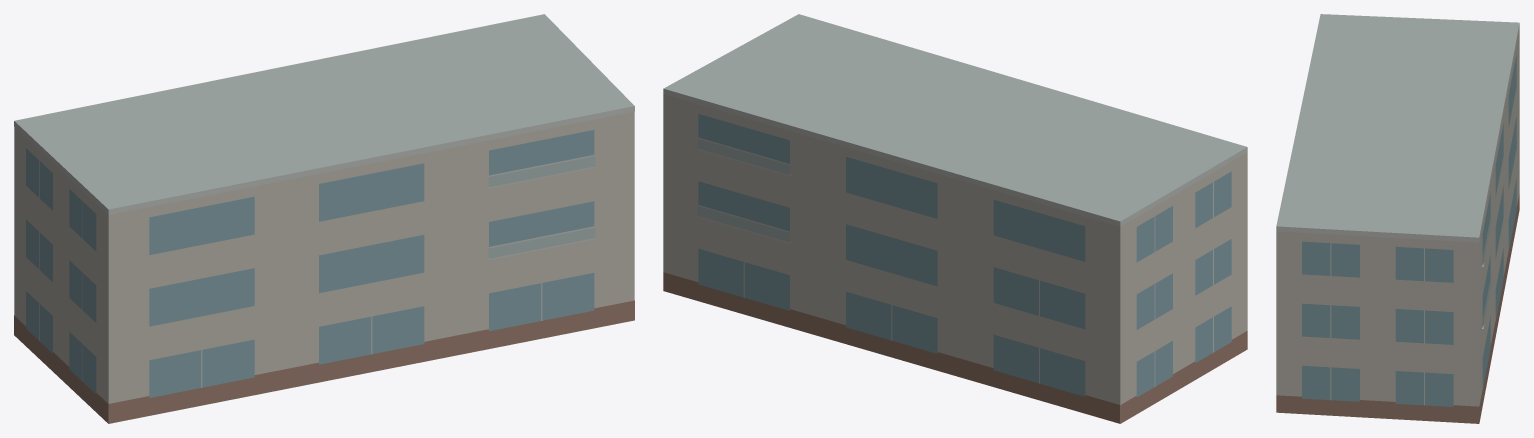
The model's file is survey-upis-32603204.glb.
3 views of the same model, side by side, from view 1: azimuth 30°, elevation 25°; view 2: azimuth 150°, elevation 25°; view 3: azimuth 270°, elevation 25° (orthographic). The views are drawn at different scales.
Parts seen in each view (by area): view 1: survey-upis-32603204.tmp; view 2: survey-upis-32603204.tmp; view 3: survey-upis-32603204.tmp.
Boxes of the visible parts, bbox=[...] form: survey-upis-32603204.tmp: bbox=[14, 14, 634, 423]; survey-upis-32603204.tmp: bbox=[663, 14, 1247, 423]; survey-upis-32603204.tmp: bbox=[1276, 14, 1519, 423].
Bounding box in the file's own units: 23.57 × 9.15 × 10.85.
